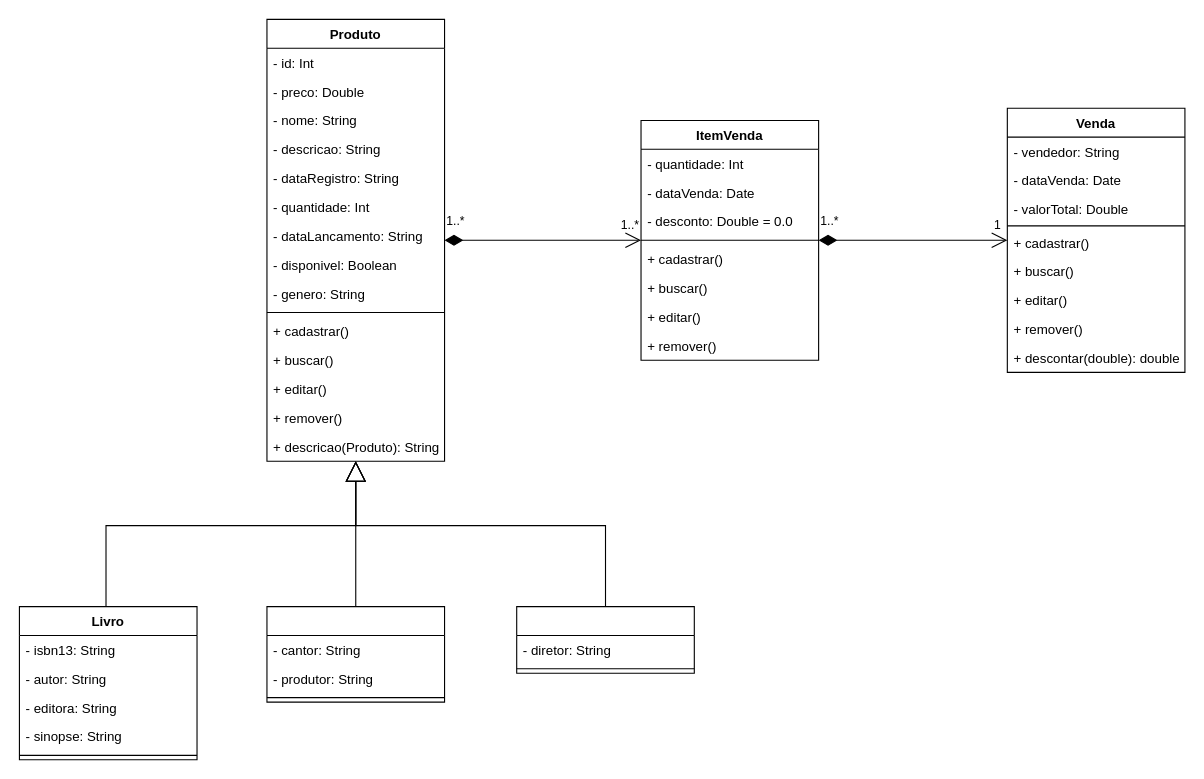
This 1204x779 diagram has some shape labels left out. The box of each missing label's shape, as (x1, y1, x2, y2) in pixels:
CD: (266, 606, 445, 702)
DVD: (516, 606, 694, 673)
